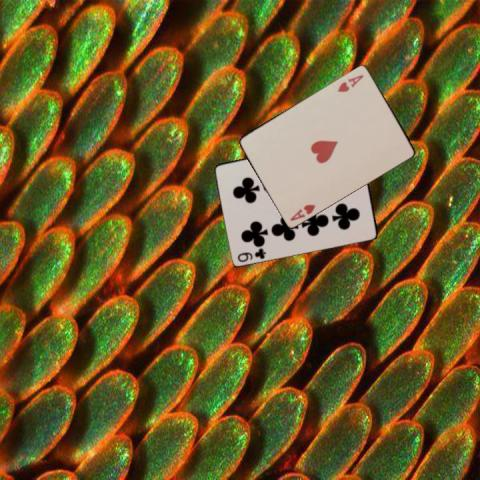9c: (235, 245, 267, 263)
Ah: (335, 72, 365, 94), (286, 201, 316, 222)
